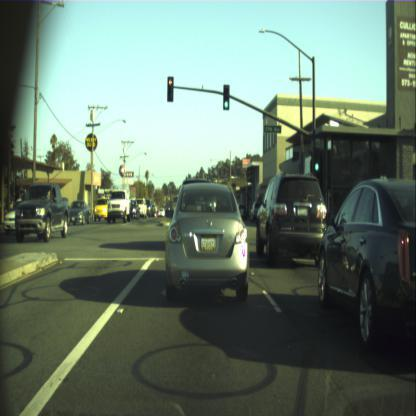Green: (313, 148, 320, 172), (223, 84, 228, 108)
RedLeft: (167, 76, 173, 101)
